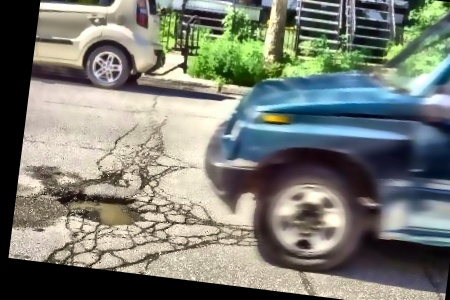pothole: (53, 187, 144, 228)
